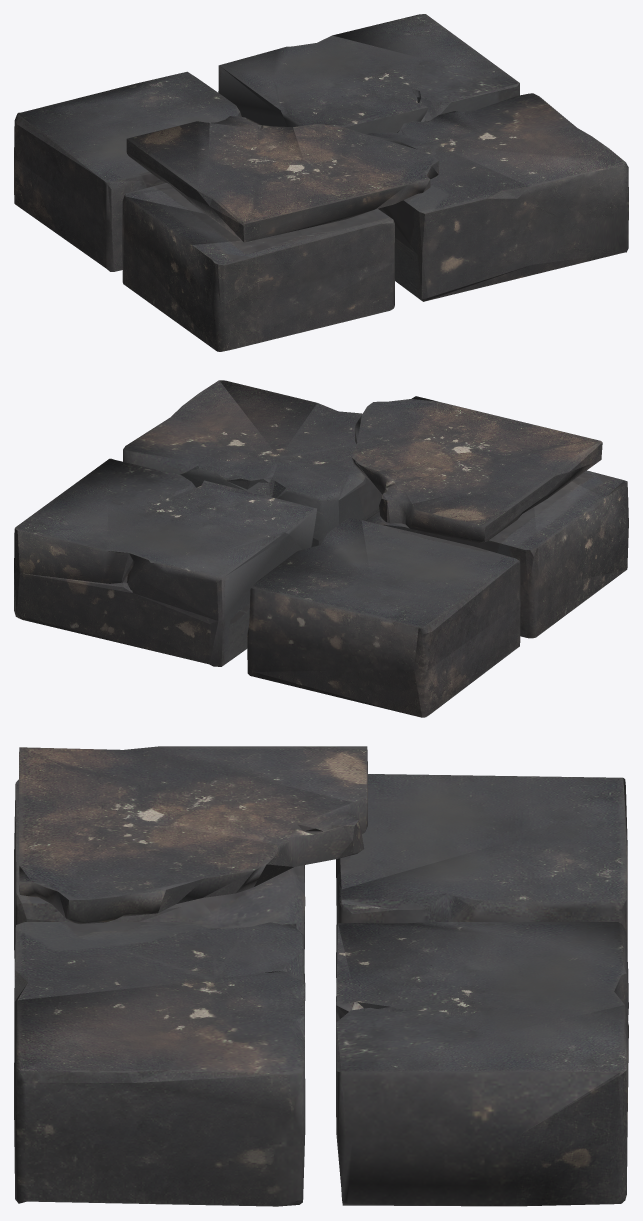
File: IT_HeavyDebris_BrokenMasonryPile.fbx
The picture shows the model from 3 angles, top to bottom: view 1: azimuth 30°, elevation 25°; view 2: azimuth 150°, elevation 25°; view 3: azimuth 270°, elevation 25°; orthographic projection. The views are drawn at different scales.
Visible parts, largest first — view 1: Mesh_0; view 2: Mesh_0; view 3: Mesh_0.
Boxes of the visible parts, <box> form: Mesh_0: <box>14,14,628,351</box>; Mesh_0: <box>14,380,628,717</box>; Mesh_0: <box>14,746,628,1206</box>.
Size of the model in its own units: 190 by 53.53 by 164.
Materials: 1 (1 with a texture image).
